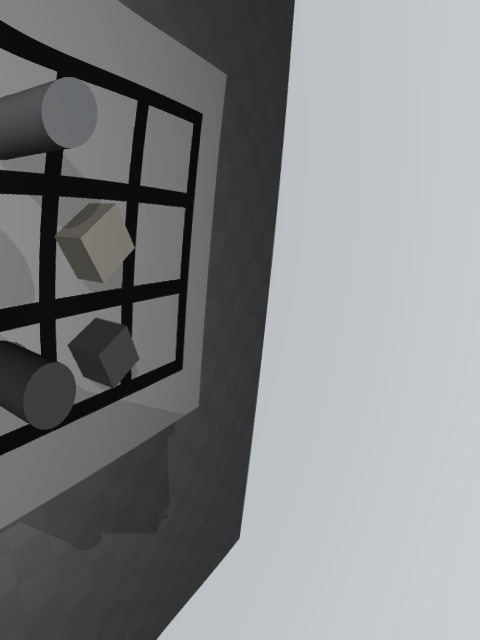can: (0, 77, 98, 160)
cube: (68, 318, 139, 389)
cylinder: (0, 341, 76, 430)
foam: (54, 203, 135, 283)
